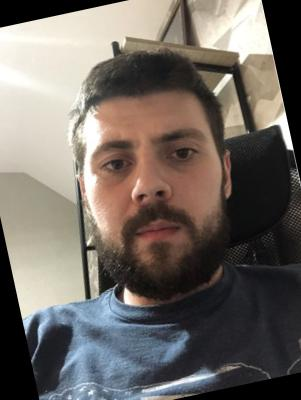without_mask: (72, 115, 248, 296)
